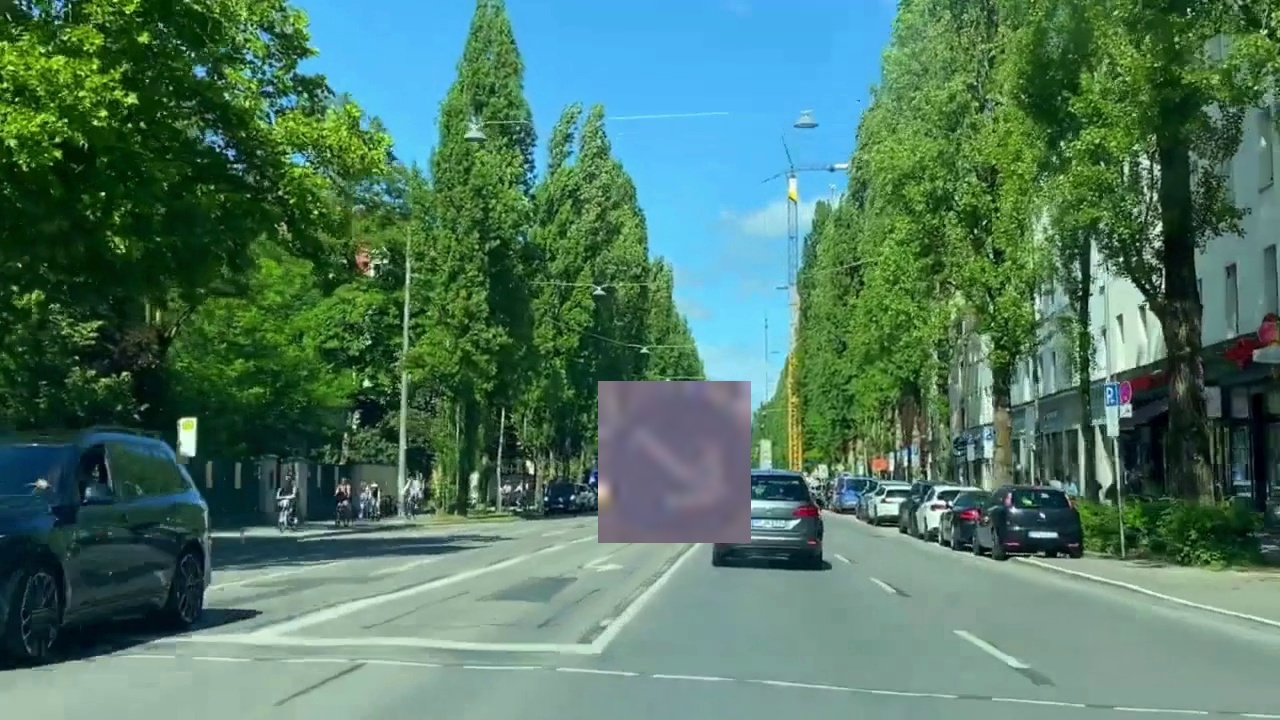Keep right: (598, 381, 751, 543)
